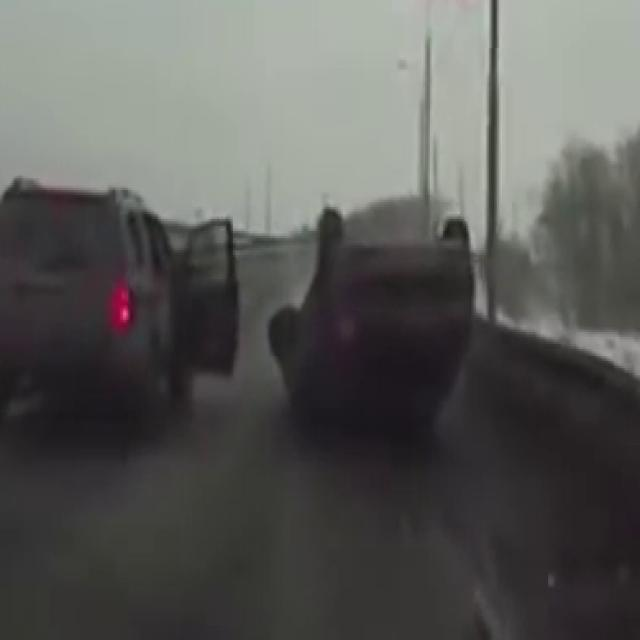accident: (250, 202, 482, 458)
